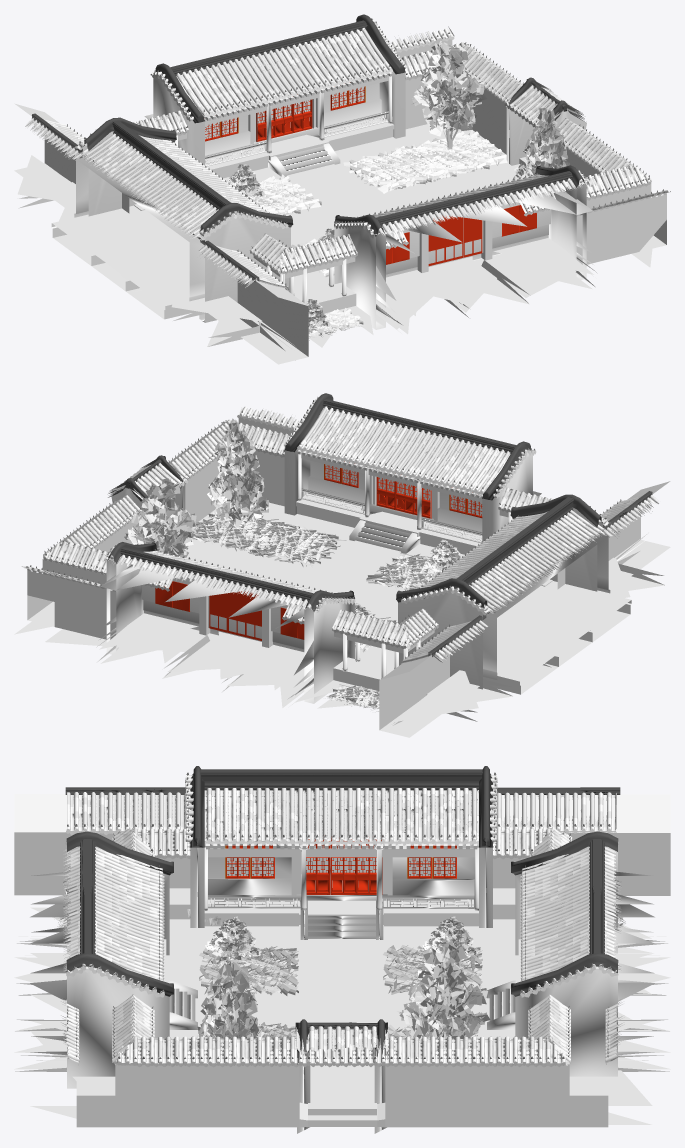
File: siheyuan-courtyard-cropped.web.glb
3 renders of one model, top to bottom at view 1: azimuth 30°, elevation 25°; view 2: azimuth 150°, elevation 25°; view 3: azimuth 270°, elevation 25°, orthographic. The views are drawn at different scales.
Visible parts, largest first — view 1: Siheyuan Mesh_2300; view 2: Siheyuan Mesh_2300; view 3: Siheyuan Mesh_2300.
Part boxes in pixels (x1,y1,x2,y2): Siheyuan Mesh_2300: (14, 14, 670, 364); Siheyuan Mesh_2300: (14, 393, 670, 737); Siheyuan Mesh_2300: (14, 766, 670, 1133).
Size of the model in its own units: 36.37 by 9.19 by 36.31.
